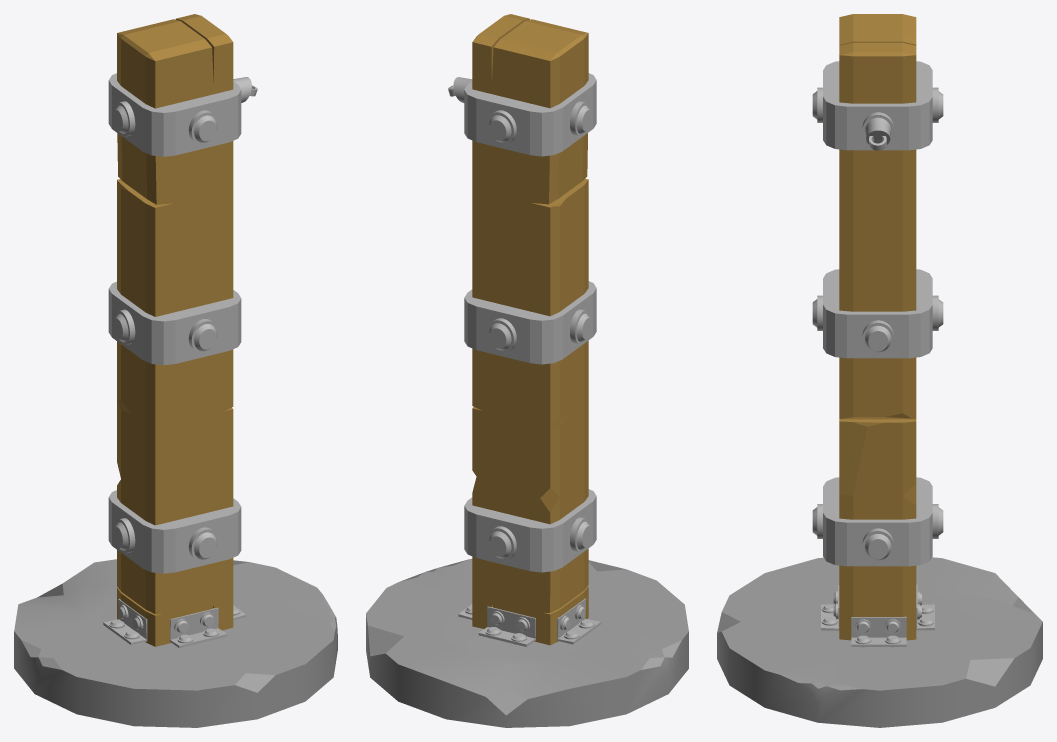
The picture shows the model from 3 angles, left to right: view 1: azimuth 30°, elevation 25°; view 2: azimuth 150°, elevation 25°; view 3: azimuth 270°, elevation 25°; orthographic projection.
Visible parts, largest first — view 1: Cube.077, Circle.023, Cube.079, Cube.091, Cube.078, Plane.041, Plane.044; view 2: Cube.077, Circle.023, Cube.079, Cube.091, Cube.078, Plane.042, Plane.044; view 3: Circle.023, Cube.077, Cube.079, Cube.078, Cube.091, Plane.043, Plane.041, Plane.042.
Part boxes in pixels (left/top/right/bottom): Cube.077: left=117, top=14, right=233, bottom=646; Circle.023: left=14, top=559, right=337, bottom=727; Cube.079: left=108, top=73, right=257, bottom=156; Cube.091: left=108, top=490, right=241, bottom=573; Cube.078: left=108, top=281, right=241, bottom=365; Plane.041: left=170, top=607, right=227, bottom=648; Plane.044: left=103, top=598, right=147, bottom=645; Cube.077: left=472, top=14, right=588, bottom=645; Circle.023: left=366, top=558, right=688, bottom=727; Cube.079: left=448, top=73, right=596, bottom=156; Cube.091: left=464, top=489, right=596, bottom=572; Cube.078: left=464, top=281, right=596, bottom=364; Plane.042: left=478, top=606, right=535, bottom=646; Plane.044: left=557, top=598, right=600, bottom=644; Circle.023: left=717, top=557, right=1042, bottom=727; Cube.077: left=839, top=14, right=916, bottom=640; Cube.079: left=812, top=61, right=943, bottom=150; Cube.078: left=812, top=269, right=943, bottom=358; Cube.091: left=812, top=477, right=943, bottom=566; Plane.043: left=851, top=616, right=906, bottom=647; Plane.041: left=821, top=585, right=839, bottom=630; Plane.042: left=916, top=584, right=934, bottom=630.
Bounding box in the file's own units: 195 × 413 × 195.
